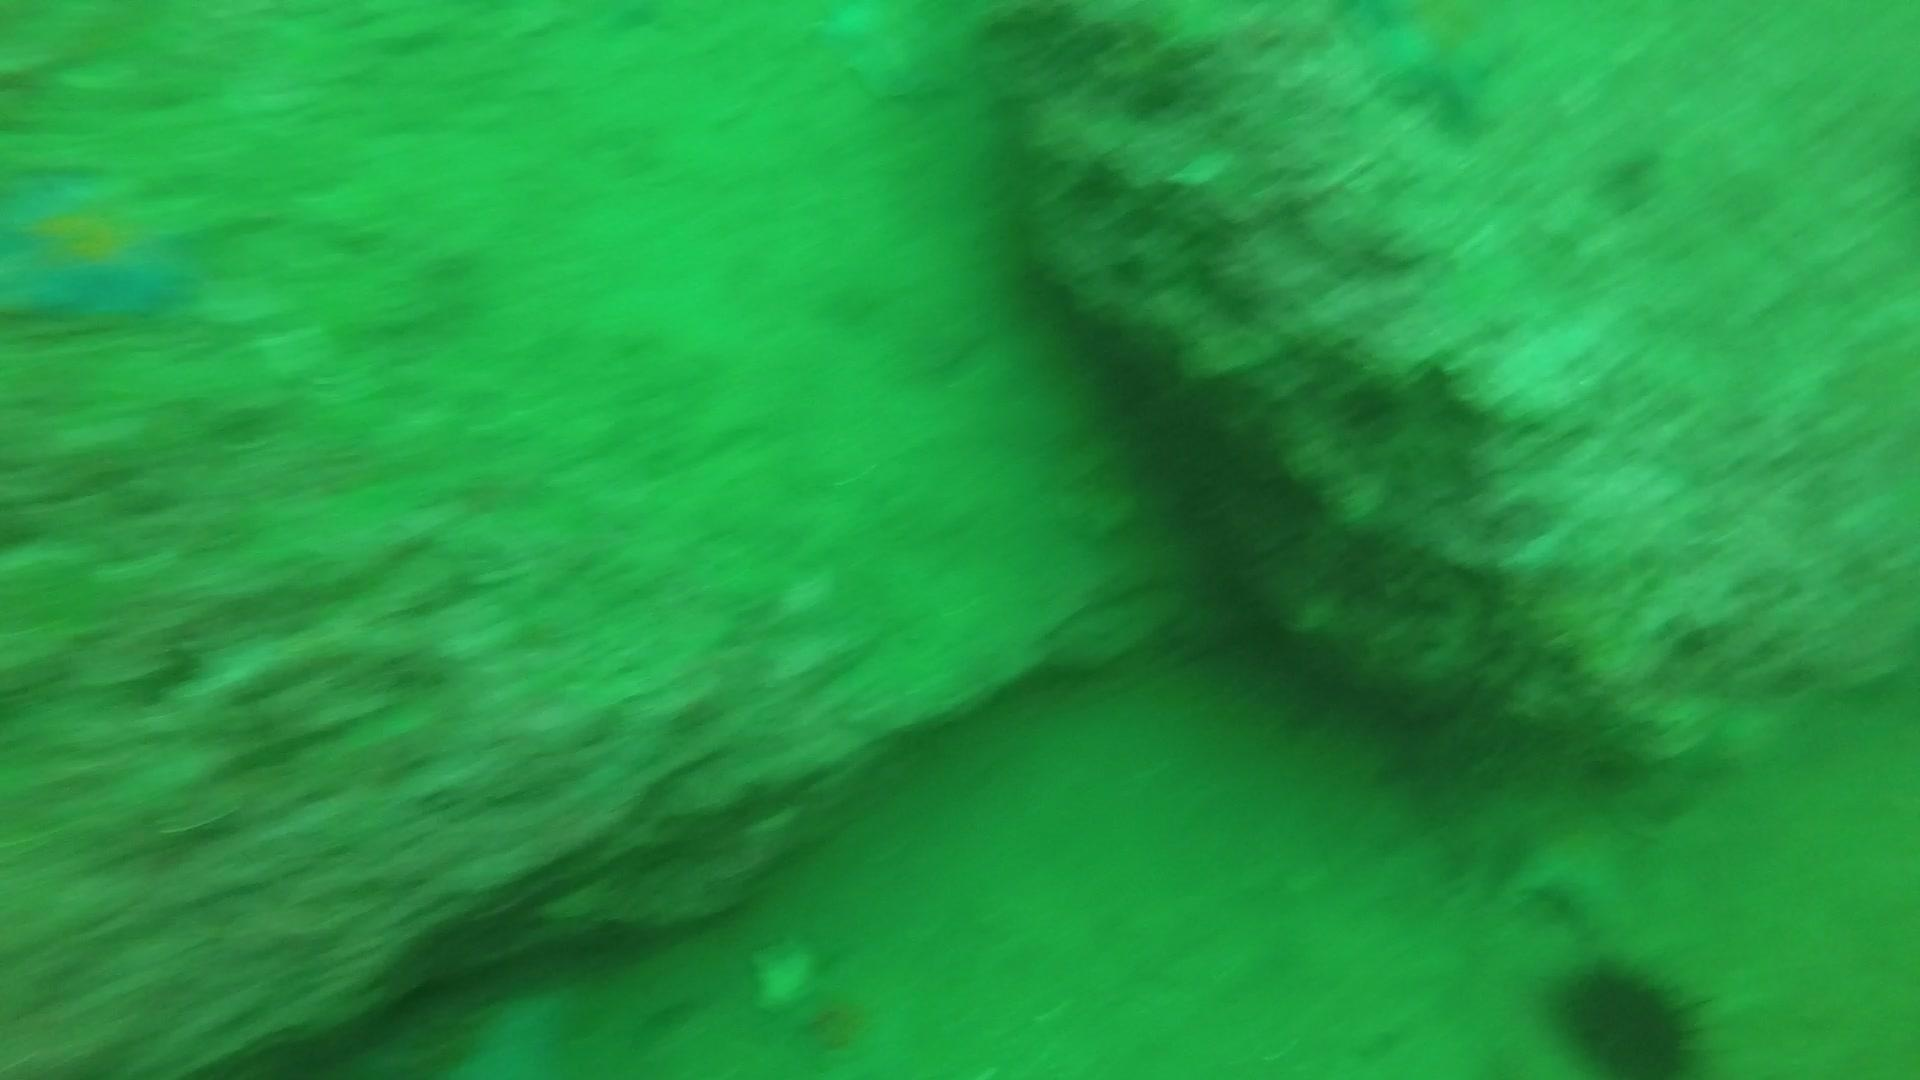echinus: (1542, 948, 1716, 1076)
starfish: (0, 162, 208, 334), (1346, 1, 1526, 129), (811, 1, 1001, 109)
